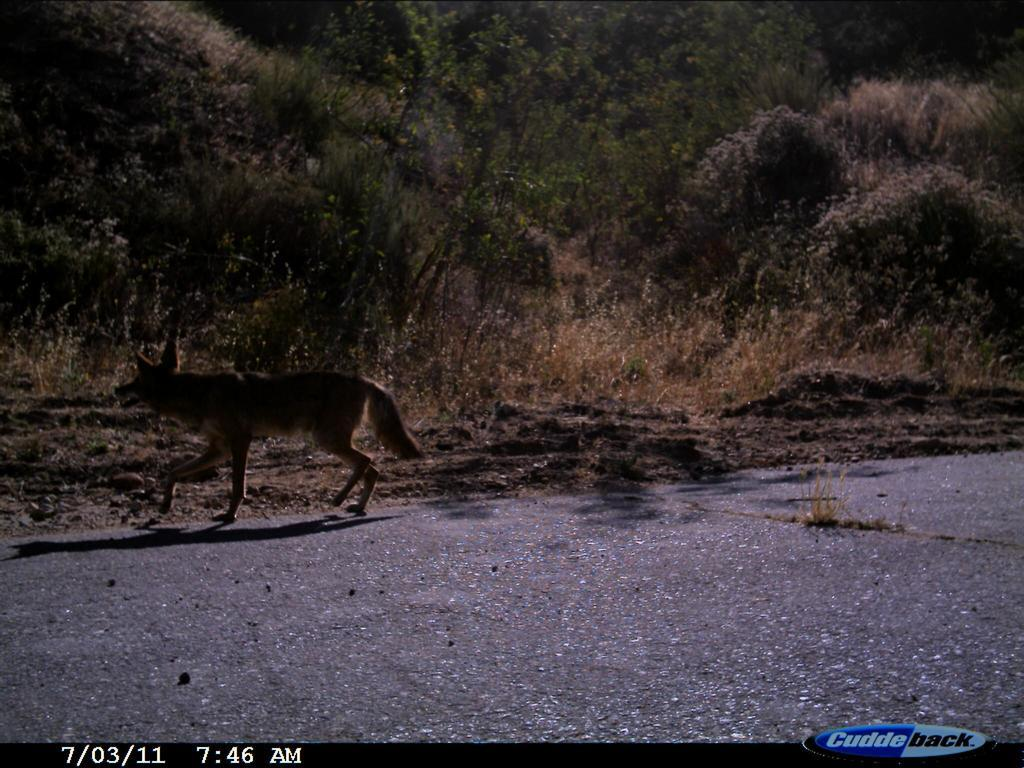coyote: (99, 329, 442, 550)
